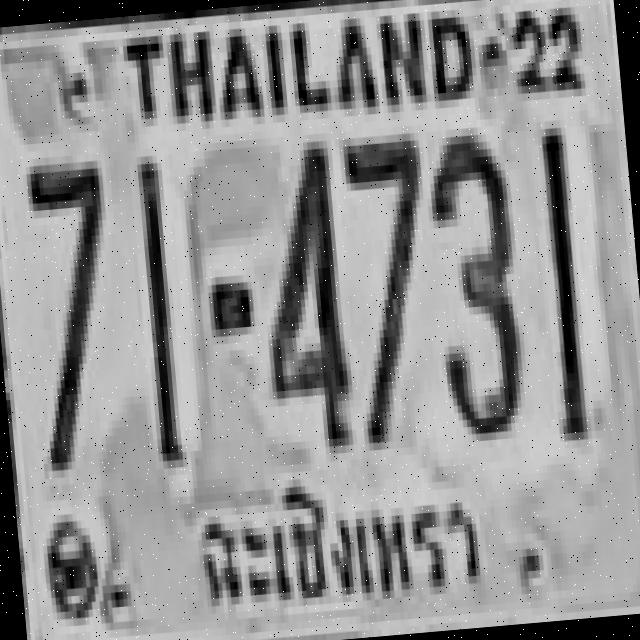1: (536, 124, 588, 437), (534, 124, 586, 437), (132, 155, 182, 461)
3: (421, 126, 523, 436)
4: (246, 136, 352, 447)
7: (338, 129, 440, 439), (21, 153, 122, 463)
Chachoengsao: (187, 449, 490, 627)
